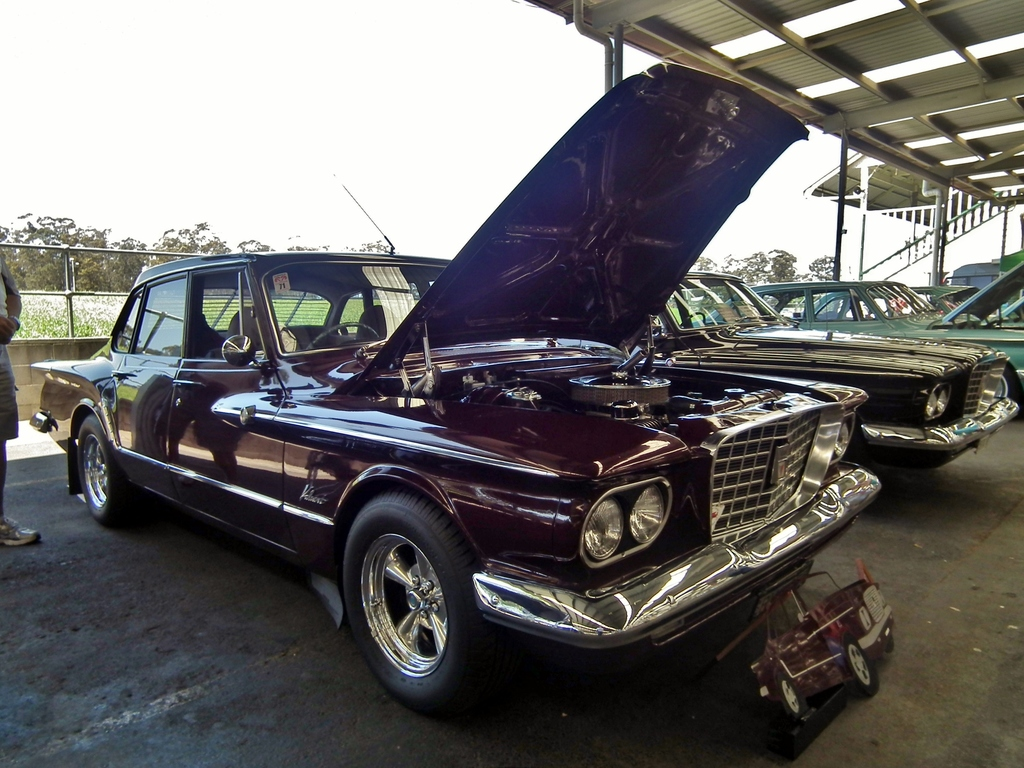cars: (29, 58, 879, 711), (650, 271, 1021, 476), (759, 267, 1023, 376)
